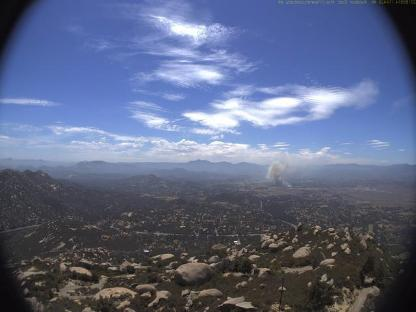smoke: (263, 147, 321, 191)
